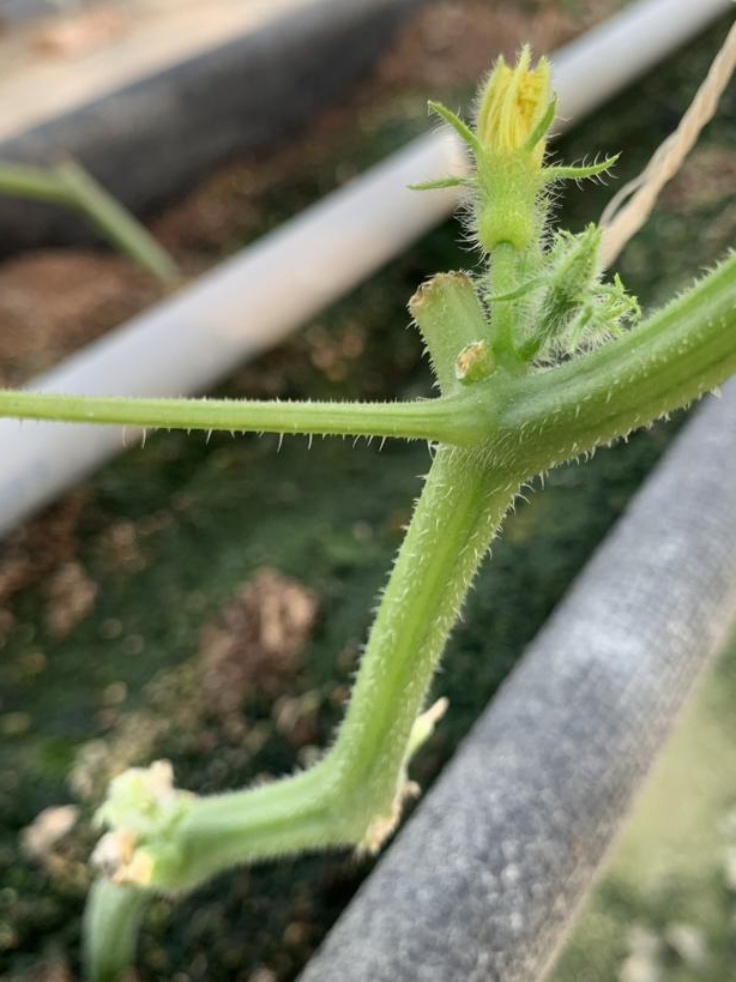bud: (438, 51, 587, 263)
